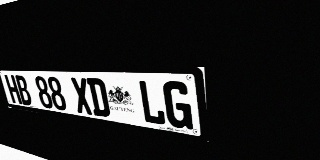8: (46, 76, 68, 111), (33, 76, 54, 109)
B: (14, 75, 33, 106)
D: (86, 78, 111, 118)
G: (162, 81, 193, 130)
H: (4, 75, 22, 104)
L: (137, 80, 166, 126)
X: (70, 77, 93, 115)
